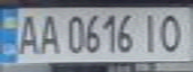0: (63, 11, 84, 55)
1: (100, 11, 121, 54)
6: (115, 10, 139, 54), (81, 11, 103, 54)
A: (12, 10, 42, 56), (36, 11, 63, 55)
I: (136, 10, 163, 54)
O: (157, 11, 190, 54)
